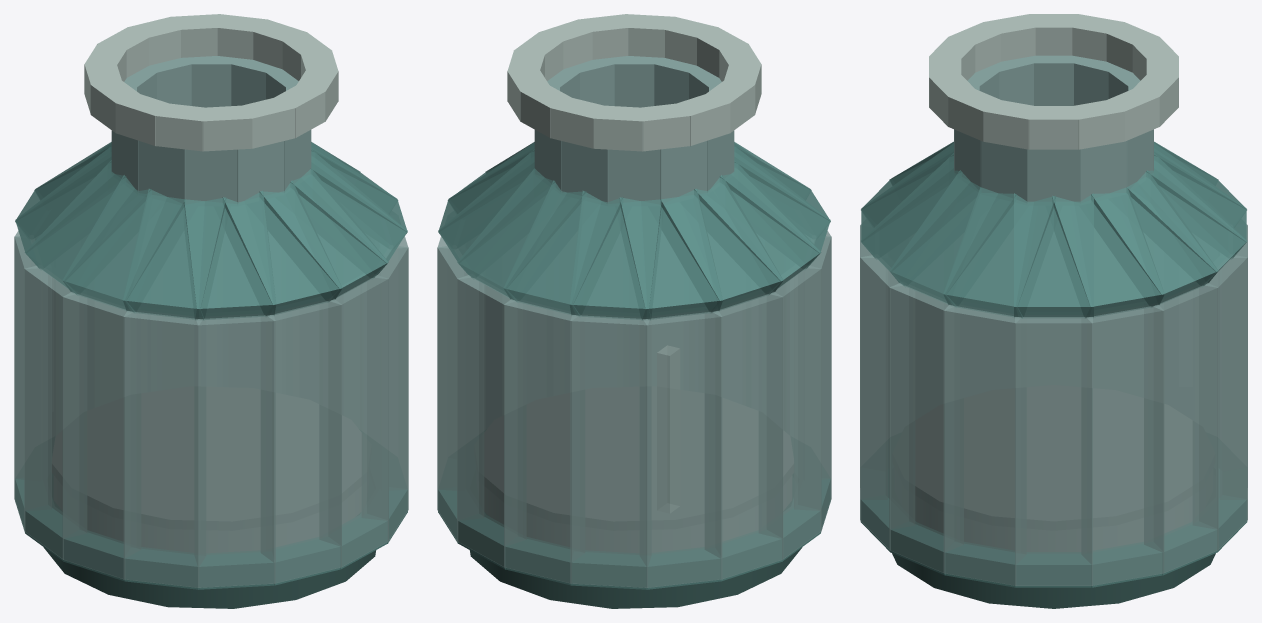
File: CMU3DBottleFill1StudyCloud.glb
The picture shows the model from 3 angles, left to right: view 1: azimuth 30°, elevation 25°; view 2: azimuth 150°, elevation 25°; view 3: azimuth 270°, elevation 25°; orthographic projection.
Parts seen in each view (by area): view 1: flat liquid meniscus, hollow bottle wall 11, hollow bottle wall 12, hollow bottle wall 13, hollow bottle wall 10, hollow bottle wall 14, hollow bottle wall 09, hollow bottle wall 15, inward glass shoulder 11, inward glass shoulder 13, inward glass shoulder 12, hollow bottle wall 08 (+50 smaller); view 2: flat liquid meniscus, hollow bottle wall 07, hollow bottle wall 06, hollow bottle wall 05, hollow bottle wall 08, hollow bottle wall 04, hollow bottle wall 09, hollow bottle wall 03, inward glass shoulder 07, inward glass shoulder 05, inward glass shoulder 06, hollow bottle wall 10 (+51 smaller); view 3: flat liquid meniscus, hollow bottle wall 02, hollow bottle wall 16, hollow bottle wall 01, hollow bottle wall 03, hollow bottle wall 15, hollow bottle wall 04, hollow bottle wall 14, inward glass shoulder 02, inward glass shoulder 16, inward glass shoulder 01, inward glass shoulder 03 (+49 smaller).
Boxes of the visible parts, <box> form: flat liquid meniscus: <box>52,387,360,530</box>; hollow bottle wall 11: <box>123,310,205,587</box>; hollow bottle wall 12: <box>194,314,275,587</box>; hollow bottle wall 13: <box>261,299,341,583</box>; hollow bottle wall 10: <box>62,292,140,579</box>; hollow bottle wall 14: <box>319,275,388,567</box>; hollow bottle wall 09: <box>24,265,86,559</box>; hollow bottle wall 15: <box>362,246,408,541</box>; inward glass shoulder 11: <box>123,188,226,320</box>; inward glass shoulder 13: <box>222,180,342,316</box>; inward glass shoulder 12: <box>184,190,276,320</box>; hollow bottle wall 08: <box>14,236,51,531</box>; flat liquid meniscus: <box>485,387,793,530</box>; hollow bottle wall 07: <box>640,310,722,587</box>; hollow bottle wall 06: <box>570,314,651,587</box>; hollow bottle wall 05: <box>504,299,584,583</box>; hollow bottle wall 08: <box>705,292,783,579</box>; hollow bottle wall 04: <box>457,275,526,567</box>; hollow bottle wall 09: <box>759,265,821,559</box>; hollow bottle wall 03: <box>437,246,483,541</box>; inward glass shoulder 07: <box>619,188,722,320</box>; inward glass shoulder 05: <box>503,180,623,316</box>; inward glass shoulder 06: <box>569,190,661,320</box>; hollow bottle wall 10: <box>794,236,831,531</box>; flat liquid meniscus: <box>916,385,1191,529</box>; hollow bottle wall 02: <box>1081,305,1164,585</box>; hollow bottle wall 16: <box>943,305,1026,585</box>; hollow bottle wall 01: <box>1015,315,1092,585</box>; hollow bottle wall 03: <box>1144,283,1218,573</box>; hollow bottle wall 15: <box>889,283,963,573</box>; hollow bottle wall 04: <box>1193,255,1247,550</box>; hollow bottle wall 14: <box>860,255,914,550</box>; inward glass shoulder 02: <box>1052,187,1164,318</box>; inward glass shoulder 16: <box>943,187,1055,318</box>; inward glass shoulder 01: <box>1014,193,1093,317</box>; inward glass shoulder 03: <box>1091,170,1218,307</box>.
Bounding box in the file's own units: 0.3384 × 0.453 × 0.3384.
